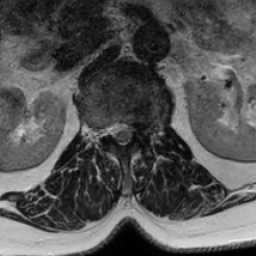CCS_normal: (118, 112, 126, 154)
LFS_severe_stenosis: (135, 115, 143, 143)
LLS_normal: (126, 112, 135, 146)
RFS_normal: (99, 118, 108, 144)
RLS_normal: (108, 113, 118, 146)
